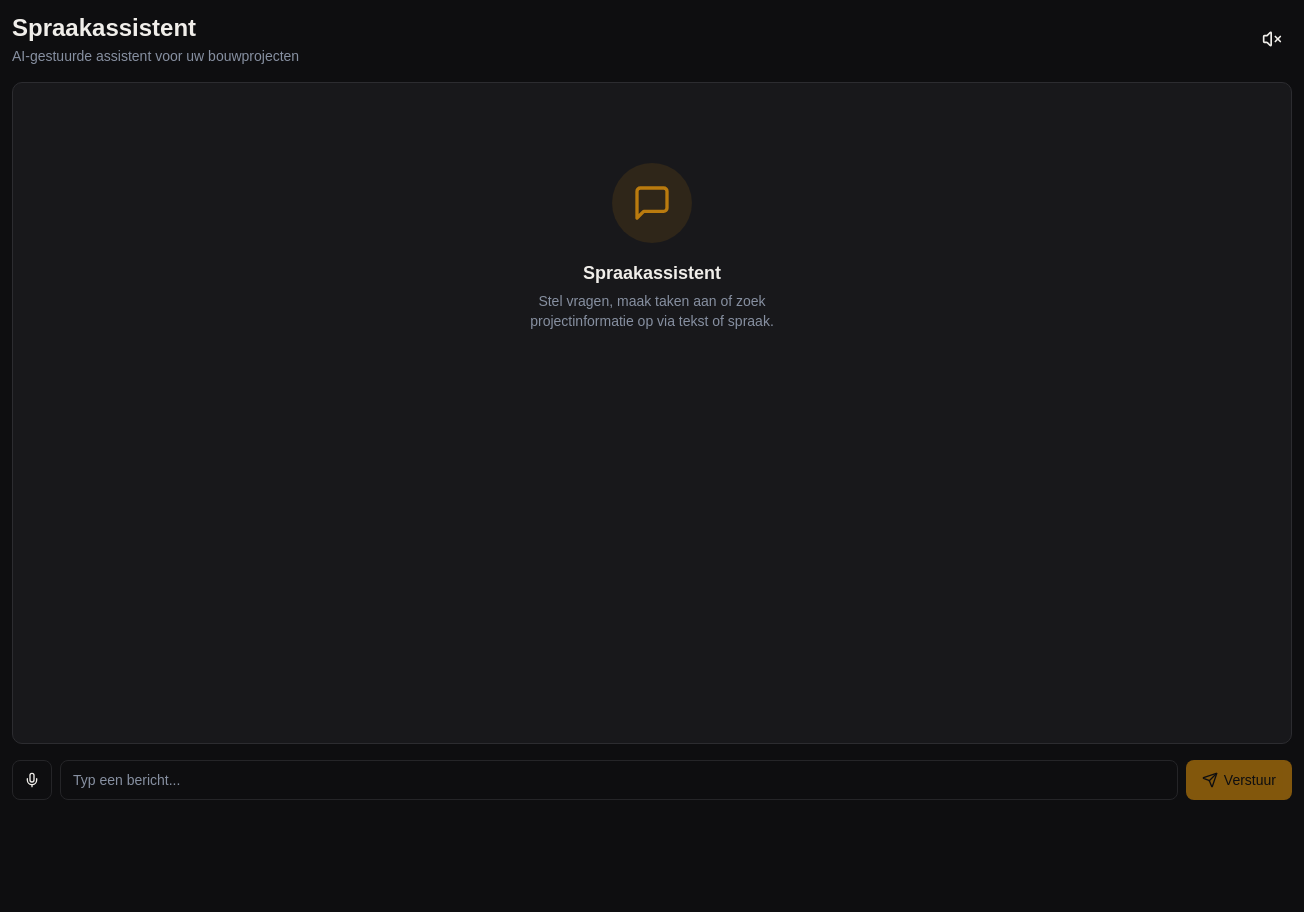
VoicePage › shows reasoning section collapsed by default on AI message
Type "Test" into the field with placeholder "Typ een bericht..." at (619,780), box [60,760,1178,800]
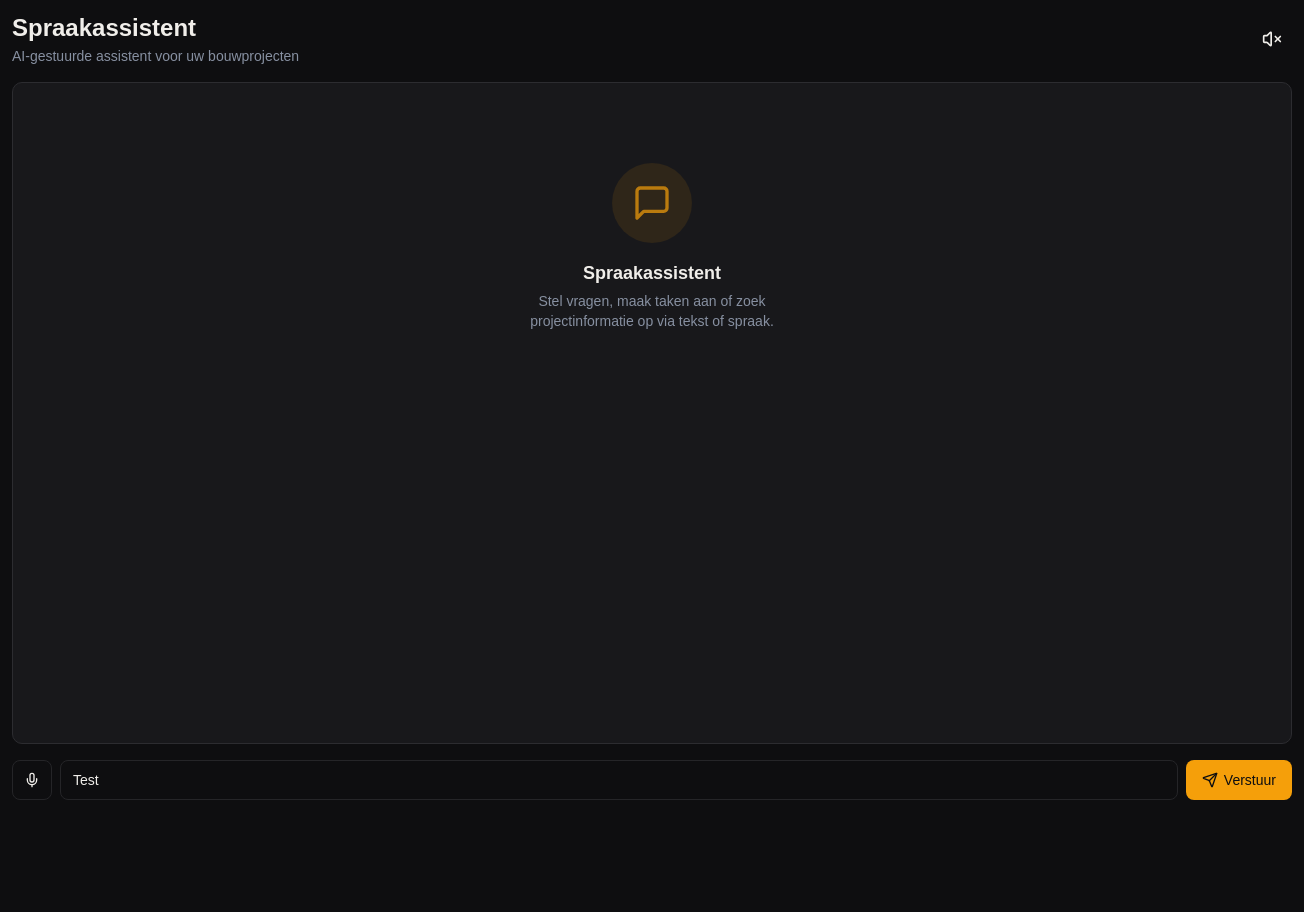
Click the button "Verstuur" at (1239,780), box [1186,760,1292,800]
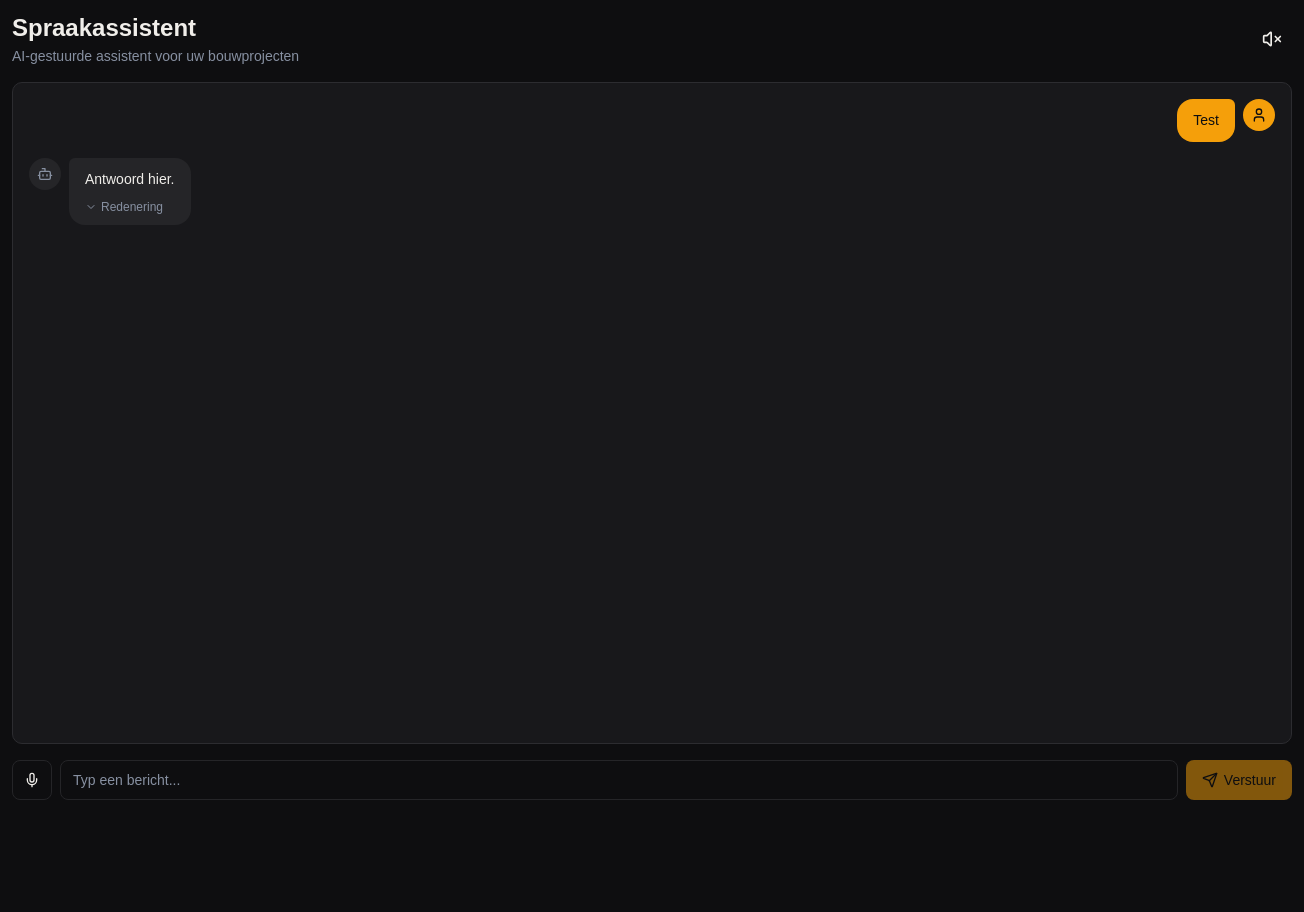
Expected: the element with test id "message-ai-0" is shown, [69,158,190,225]
Expected: the button "Redenering" is shown, [85,198,163,214]
